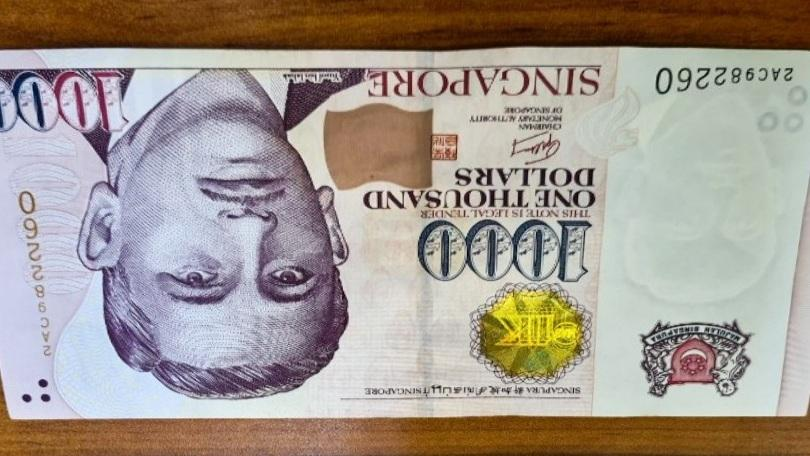1000SingaporeDollar: (0, 52, 810, 414)
